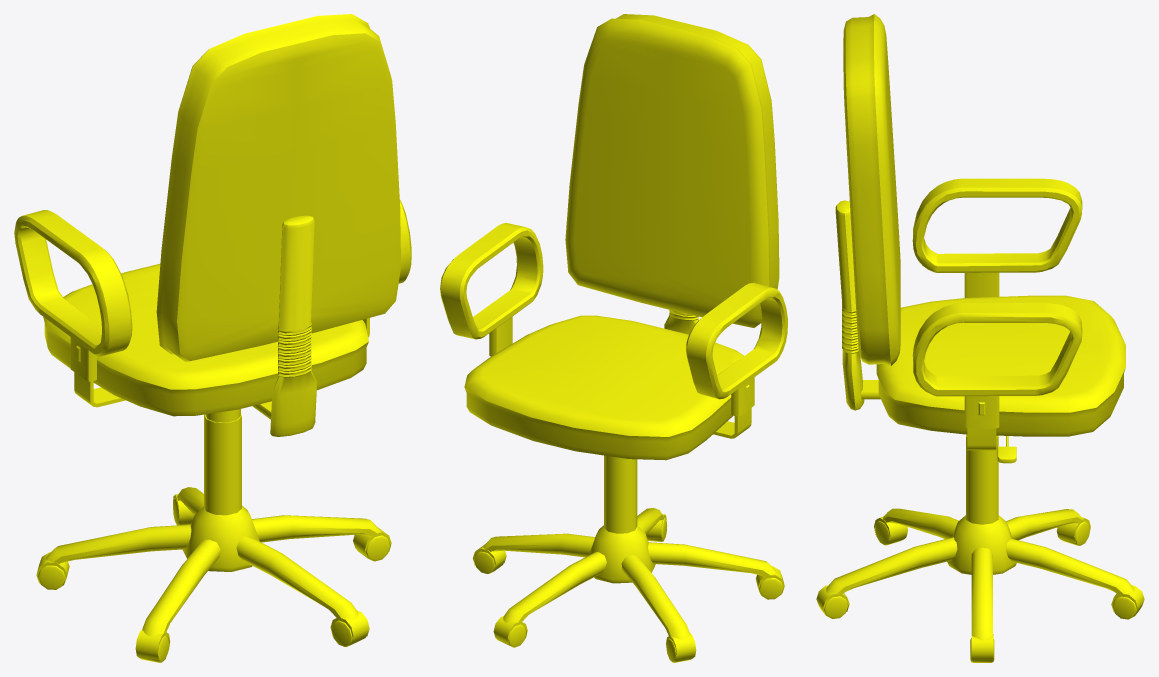
File: chair.glb
3 renders of one model, left to right at view 1: azimuth 30°, elevation 25°; view 2: azimuth 150°, elevation 25°; view 3: azimuth 270°, elevation 25°, orthographic. The views are drawn at different scales.
Parts seen in each view (by area): view 1: Cube_1; view 2: Cube_1; view 3: Cube_1.
Part boxes in pixels (left/top/right/bottom): Cube_1: left=14, top=14, right=411, bottom=662; Cube_1: left=440, top=14, right=787, bottom=662; Cube_1: left=816, top=14, right=1144, bottom=662.
Bounding box in the file's own units: 0.5518 × 1.01 × 0.5433.
1 material, 1 textured.
